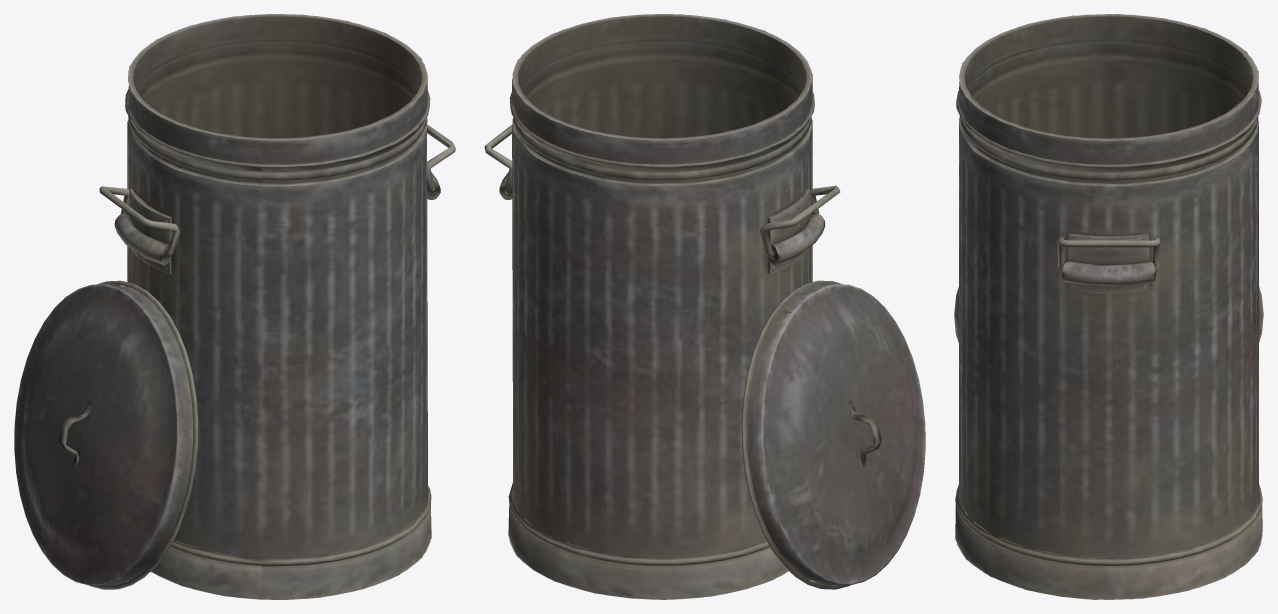
File: trash_bin.glb
The picture shows the model from 3 angles, left to right: view 1: azimuth 30°, elevation 25°; view 2: azimuth 150°, elevation 25°; view 3: azimuth 270°, elevation 25°; orthographic projection.
Visible parts, largest first — view 1: metal_trash_can; view 2: metal_trash_can; view 3: metal_trash_can.
Part boxes in pixels (left/top/right/bottom): metal_trash_can: left=14, top=14, right=455, bottom=599; metal_trash_can: left=484, top=14, right=925, bottom=599; metal_trash_can: left=954, top=14, right=1263, bottom=599.
Size of the model in its own units: 0.779 by 0.9062 by 0.5554.
1 material, 1 textured.
